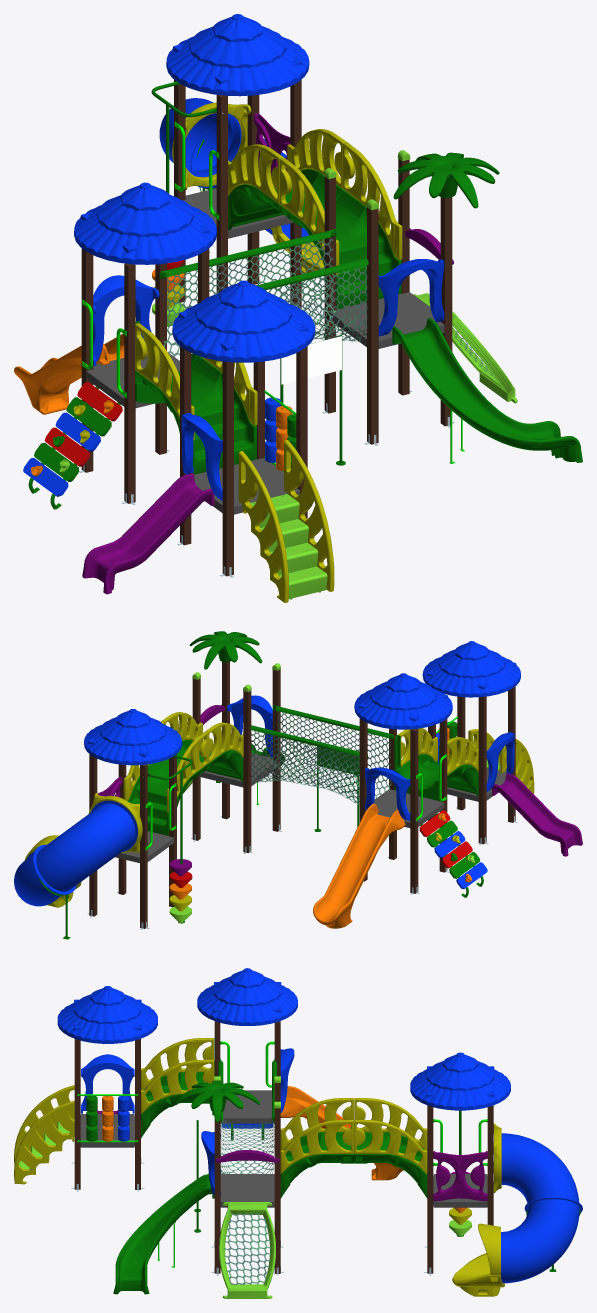
3 views of the same model, one above another, from view 1: azimuth 30°, elevation 25°; view 2: azimuth 150°, elevation 25°; view 3: azimuth 270°, elevation 25° (orthographic). The views are drawn at different scales.
Parts seen in each view (by area): view 1: object 5, object 22, object 10, TOLDO M2.002, TOLDO M2.001, TOLDO M2, ACESSO M1.001, ACESSO M1.002, LATERAL M2, LATERAL M2.001, COLUNA MAD PLAST 9 X 9CM.030, COLUNA MAD PLAST 9 X 9CM.040 (+27 smaller); view 2: object 5, object 10, object 22, TOLDO M2, TOLDO M2.001, TOLDO M2.002, ACESSO M1.002, COLUNA MAD PLAST 9 X 9CM.041, COLUNA MAD PLAST 9 X 9CM.031, COLUNA MAD PLAST 9 X 9CM.026, COLUNA MAD PLAST 9 X 9CM.036, COLUNA MAD PLAST 9 X 9CM.030 (+25 smaller); view 3: object 5, object 10, object 22, TOLDO M2.002, TOLDO M2, TOLDO M2.001, LATERAL M2.001, object 29, LATERAL M1.003, LATERAL M1.002, PLATAFORMA M1.010, LATERAL M1.005 (+15 smaller).
Boxes of the visible parts, x1=… form: object 5: x1=14, y1=98, x2=582, y2=500; object 22: x1=163, y1=239, x2=517, y2=599; object 10: x1=82, y1=81, x2=453, y2=594; TOLDO M2.002: x1=172, y1=280, x2=315, y2=362; TOLDO M2.001: x1=74, y1=182, x2=216, y2=264; TOLDO M2: x1=166, y1=14, x2=309, y2=96; ACESSO M1.001: x1=280, y1=189, x2=401, y2=309; ACESSO M1.002: x1=135, y1=355, x2=256, y2=474; LATERAL M2: x1=238, y1=451, x2=288, y2=602; LATERAL M2.001: x1=284, y1=440, x2=334, y2=591; COLUNA MAD PLAST 9 X 9CM.030: x1=367, y1=207, x2=378, y2=444; COLUNA MAD PLAST 9 X 9CM.040: x1=124, y1=263, x2=135, y2=503; object 5: x1=14, y1=631, x2=514, y2=928; object 10: x1=24, y1=704, x2=582, y2=939; object 22: x1=182, y1=711, x2=499, y2=805; TOLDO M2: x1=84, y1=709, x2=182, y2=765; TOLDO M2.001: x1=354, y1=673, x2=452, y2=729; TOLDO M2.002: x1=422, y1=641, x2=520, y2=697; ACESSO M1.002: x1=401, y1=754, x2=478, y2=795; COLUNA MAD PLAST 9 X 9CM.041: x1=410, y1=729, x2=418, y2=893; COLUNA MAD PLAST 9 X 9CM.031: x1=243, y1=690, x2=251, y2=853; COLUNA MAD PLAST 9 X 9CM.026: x1=478, y1=696, x2=486, y2=844; COLUNA MAD PLAST 9 X 9CM.036: x1=140, y1=764, x2=147, y2=928; COLUNA MAD PLAST 9 X 9CM.030: x1=272, y1=669, x2=280, y2=831; object 5: x1=81, y1=1038, x2=582, y2=1294; object 10: x1=97, y1=1110, x2=580, y2=1296; object 22: x1=18, y1=1115, x2=275, y2=1298; TOLDO M2.002: x1=57, y1=986, x2=157, y2=1043; TOLDO M2: x1=410, y1=1052, x2=510, y2=1110; TOLDO M2.001: x1=197, y1=968, x2=297, y2=1025; LATERAL M2.001: x1=14, y1=1100, x2=74, y2=1184; object 29: x1=77, y1=1094, x2=138, y2=1142; LATERAL M1.003: x1=354, y1=1119, x2=427, y2=1174; LATERAL M1.002: x1=280, y1=1120, x2=353, y2=1174; PLATAFORMA M1.010: x1=220, y1=1174, x2=274, y2=1207; LATERAL M1.005: x1=141, y1=1059, x2=214, y2=1114.
Size of the model in its own units: 6.49 by 3.46 by 8.61.
46 materials, 2 textured.
